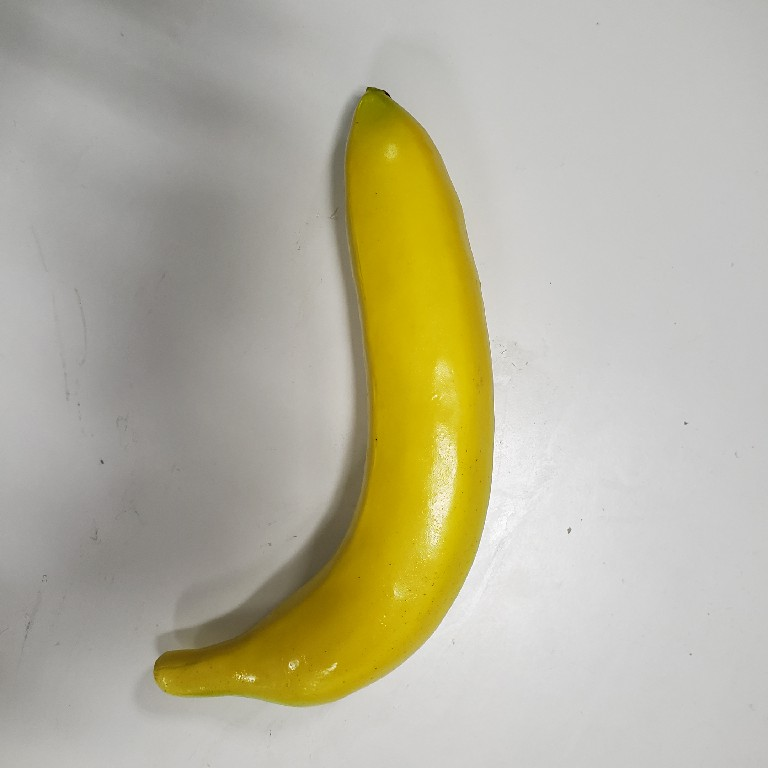fruit_banana: (151, 78, 498, 711)
